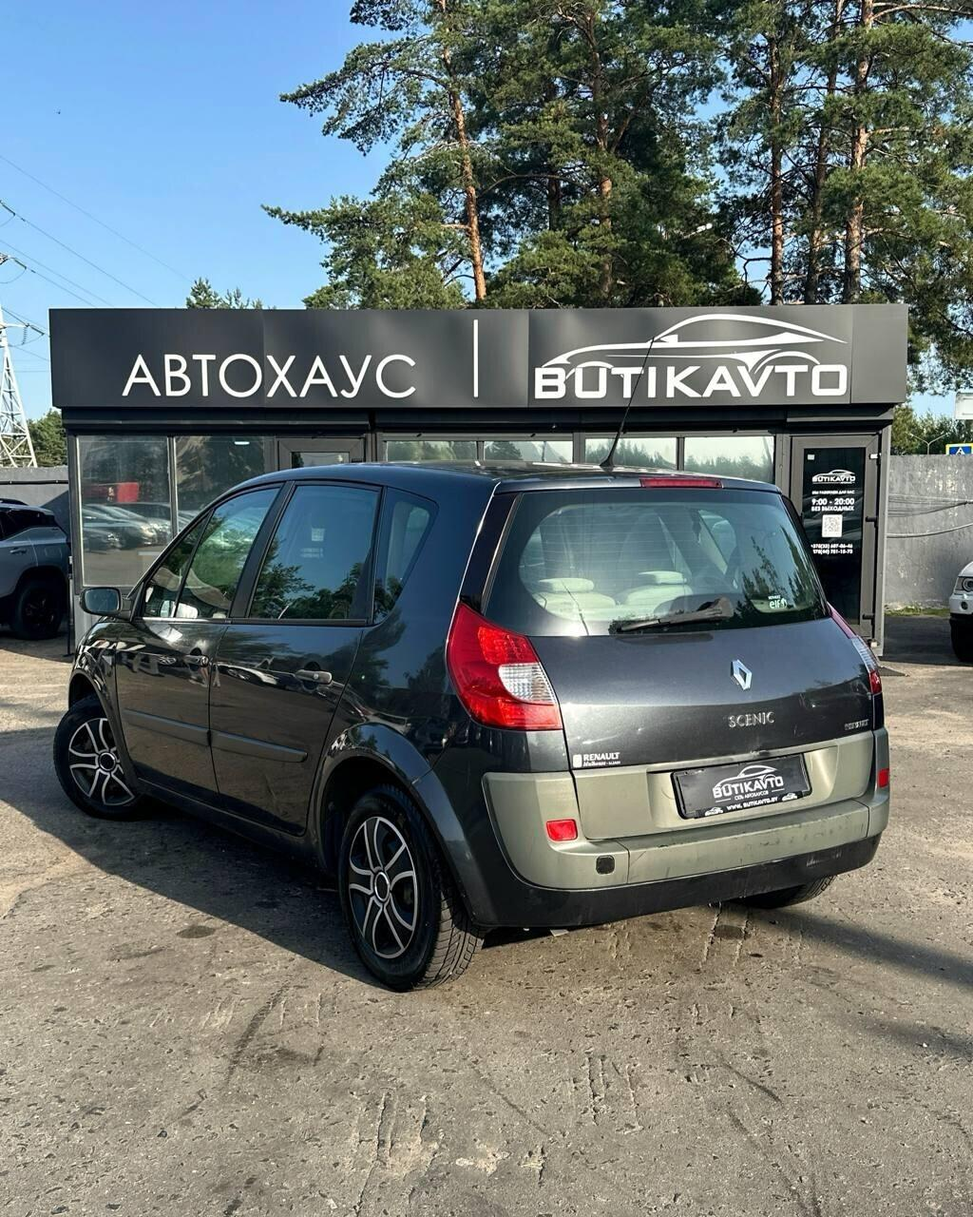Megane_2005-2009: (48, 456, 888, 987)
